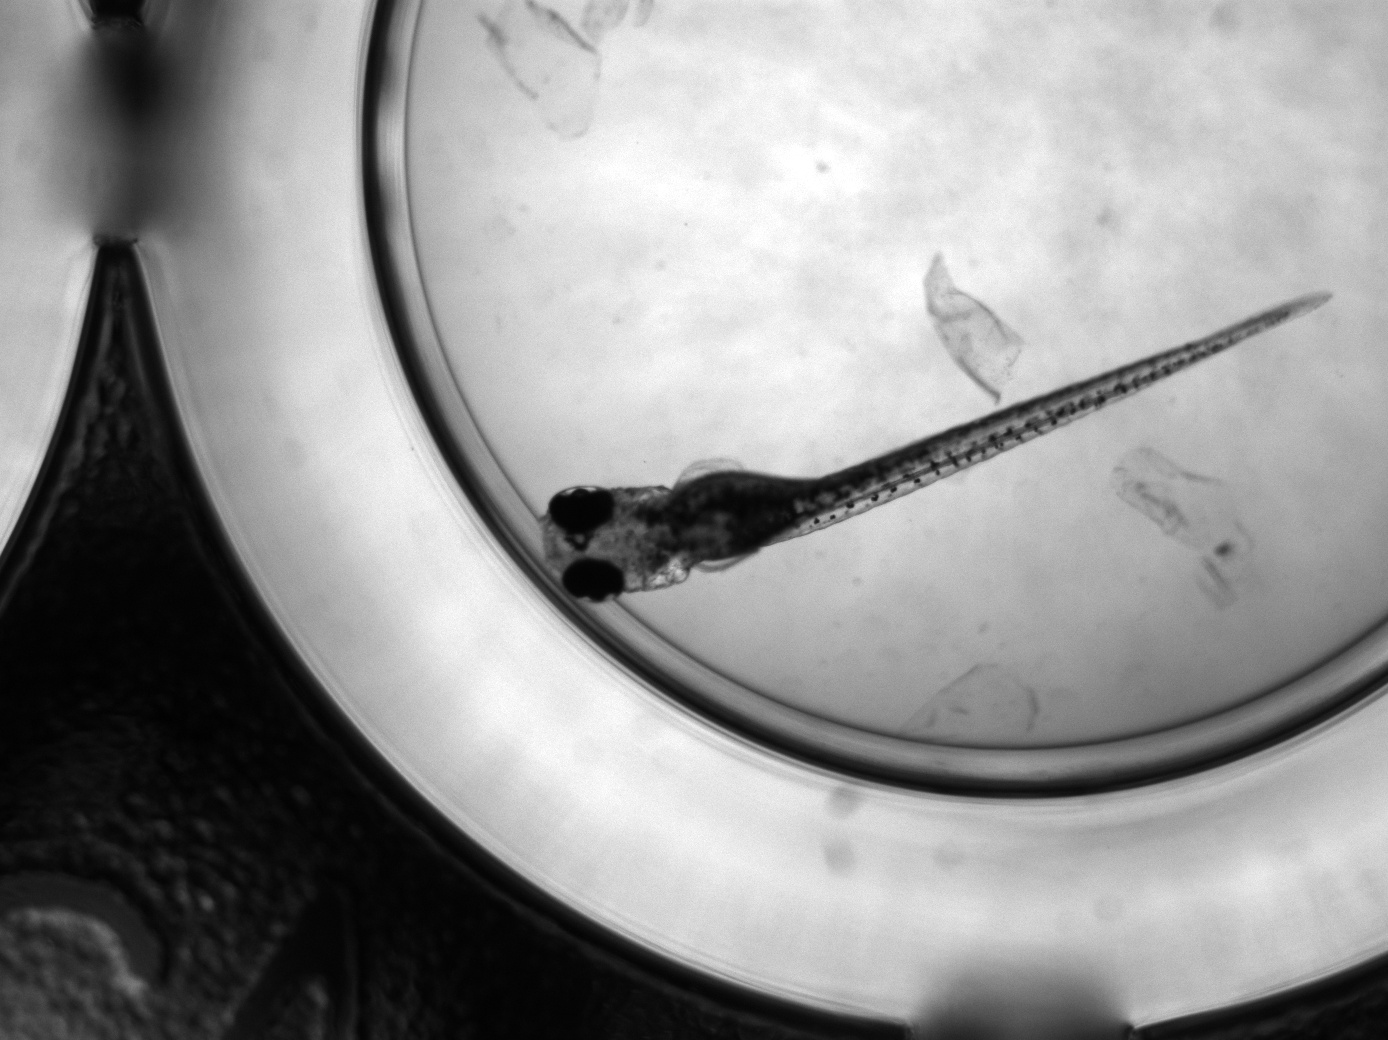debris: (474, 1, 661, 142), (1111, 445, 1262, 608), (923, 251, 1031, 407)
embryo: (538, 288, 1336, 602)
eye: (548, 484, 618, 534), (561, 557, 628, 602)
yolksac: (668, 470, 827, 565)
